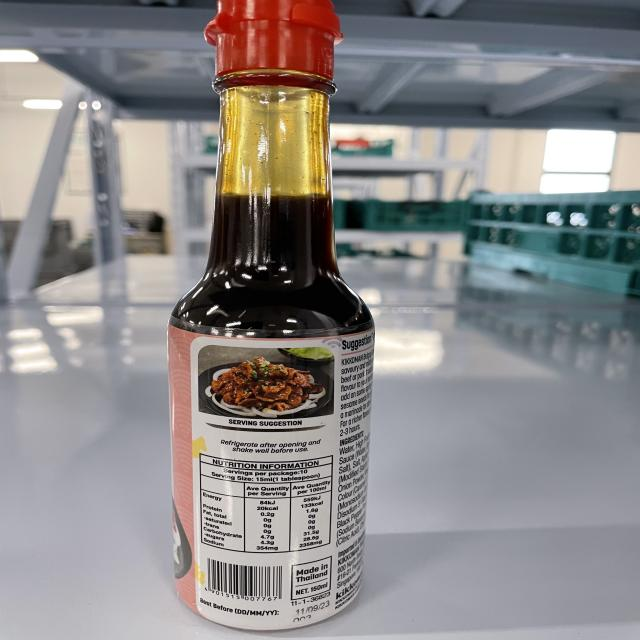object_name: (197, 0, 370, 613)
